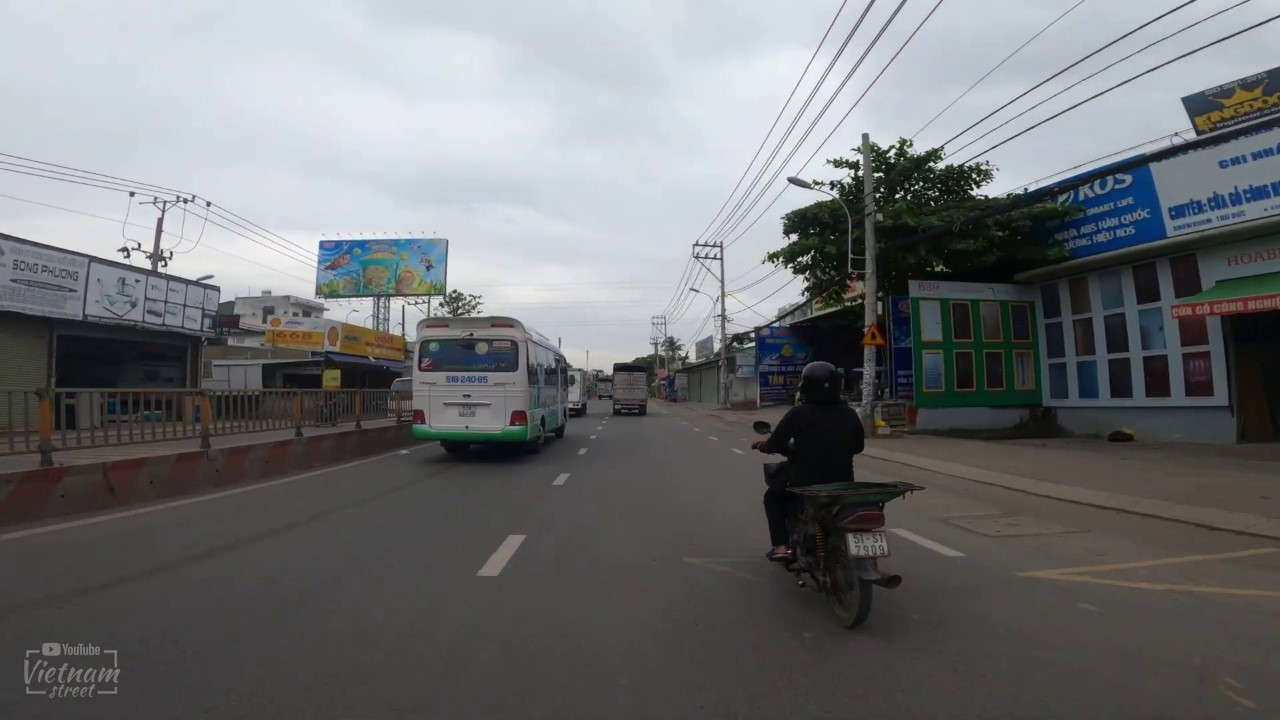giao_khong_uu_tien_phai: (860, 323, 887, 346)
